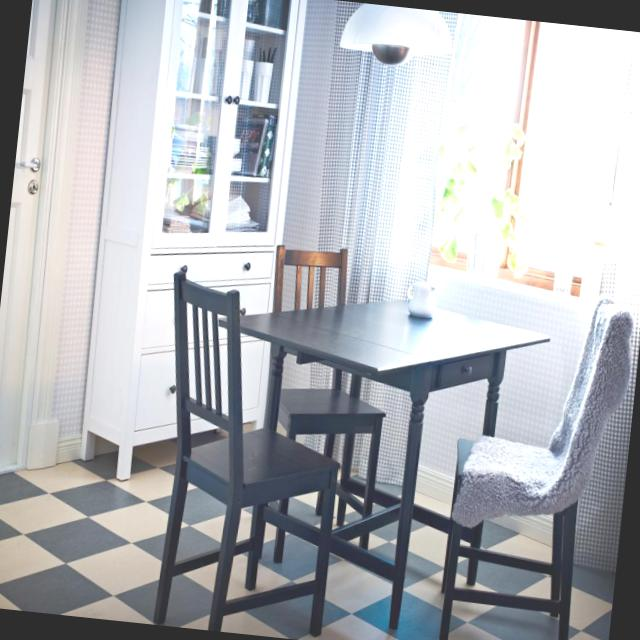obstacle: (135, 238, 640, 640)
